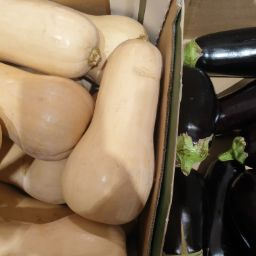Butternut Squash: (66, 5, 155, 236), (3, 163, 135, 256), (1, 62, 99, 164), (1, 1, 103, 79)
